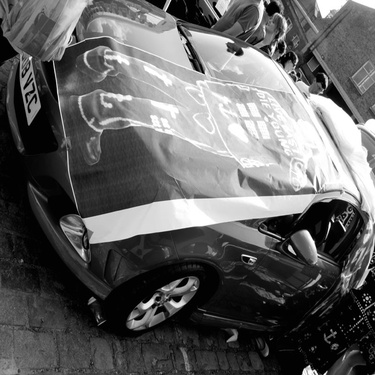car: (2, 7, 370, 348), (138, 1, 239, 42)
